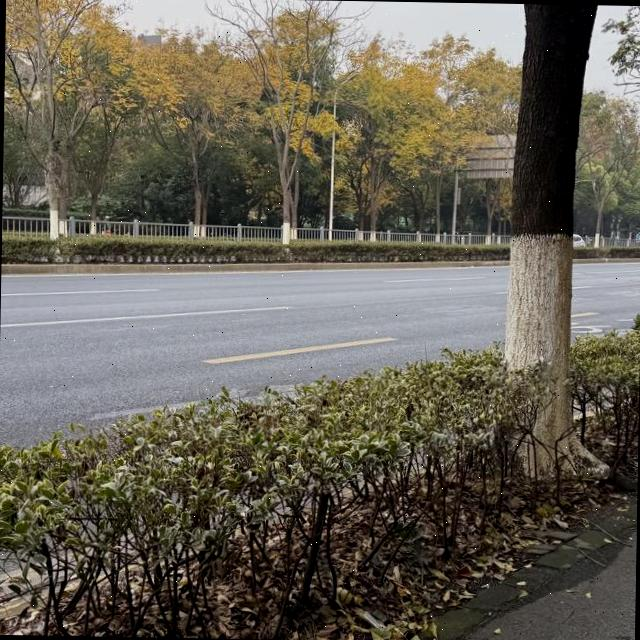curb: (1, 258, 507, 276), (577, 256, 640, 262)
